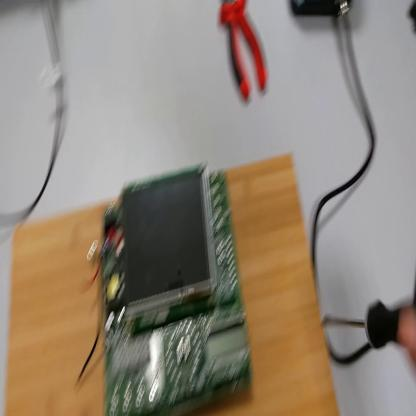hand: (398, 297, 416, 371)
low voltage board: (75, 148, 266, 415)
pliers: (219, 1, 270, 105)
screwdriver-: (324, 295, 416, 350)
welder station: (289, 3, 354, 24)
working area: (5, 143, 352, 416)
